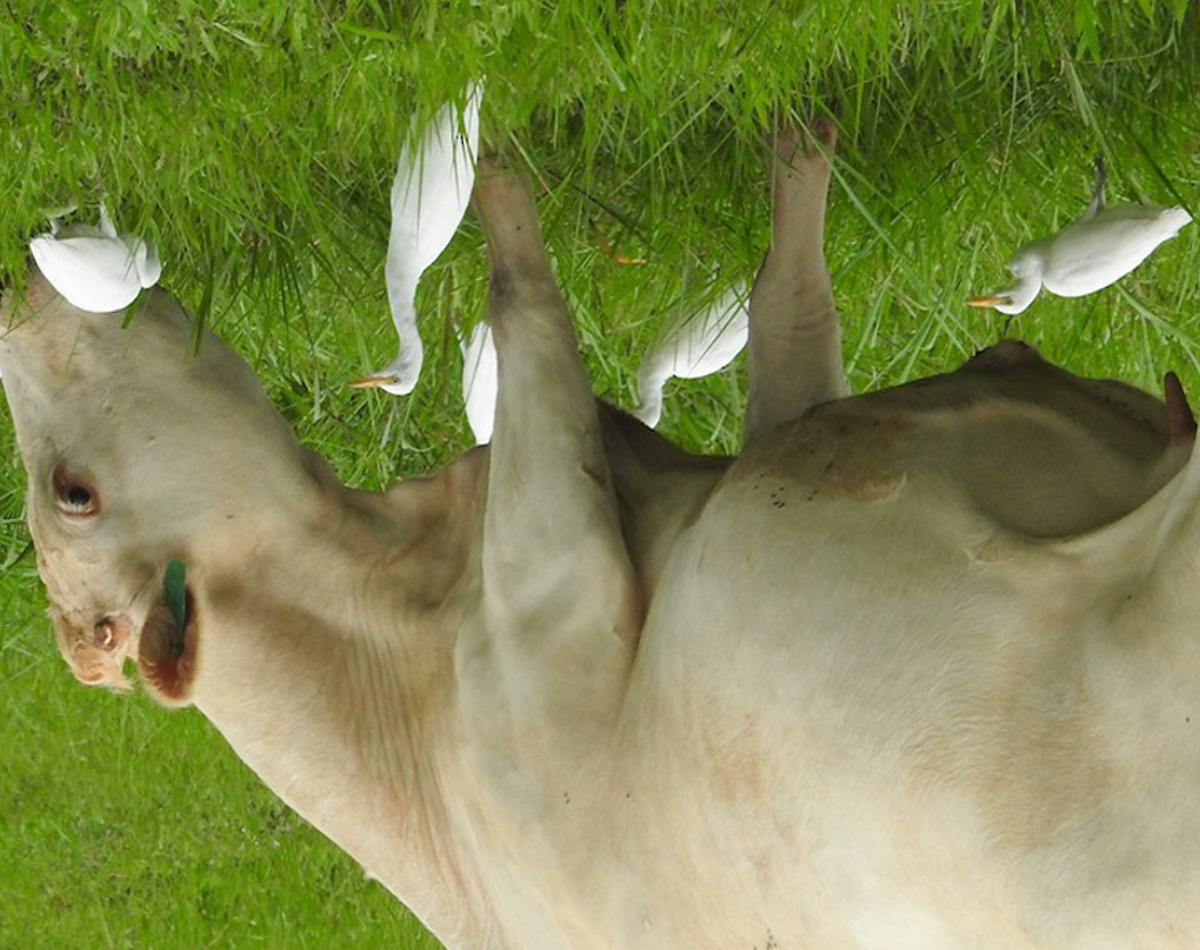egret: (349, 107, 482, 404), (950, 204, 1187, 330)
